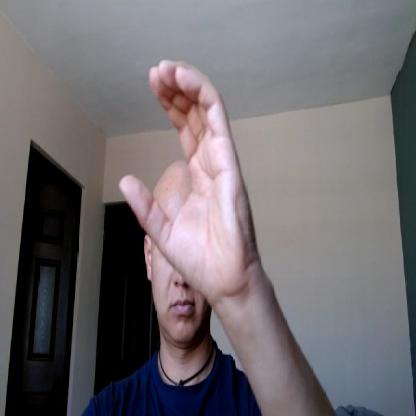C: (119, 59, 252, 301)
